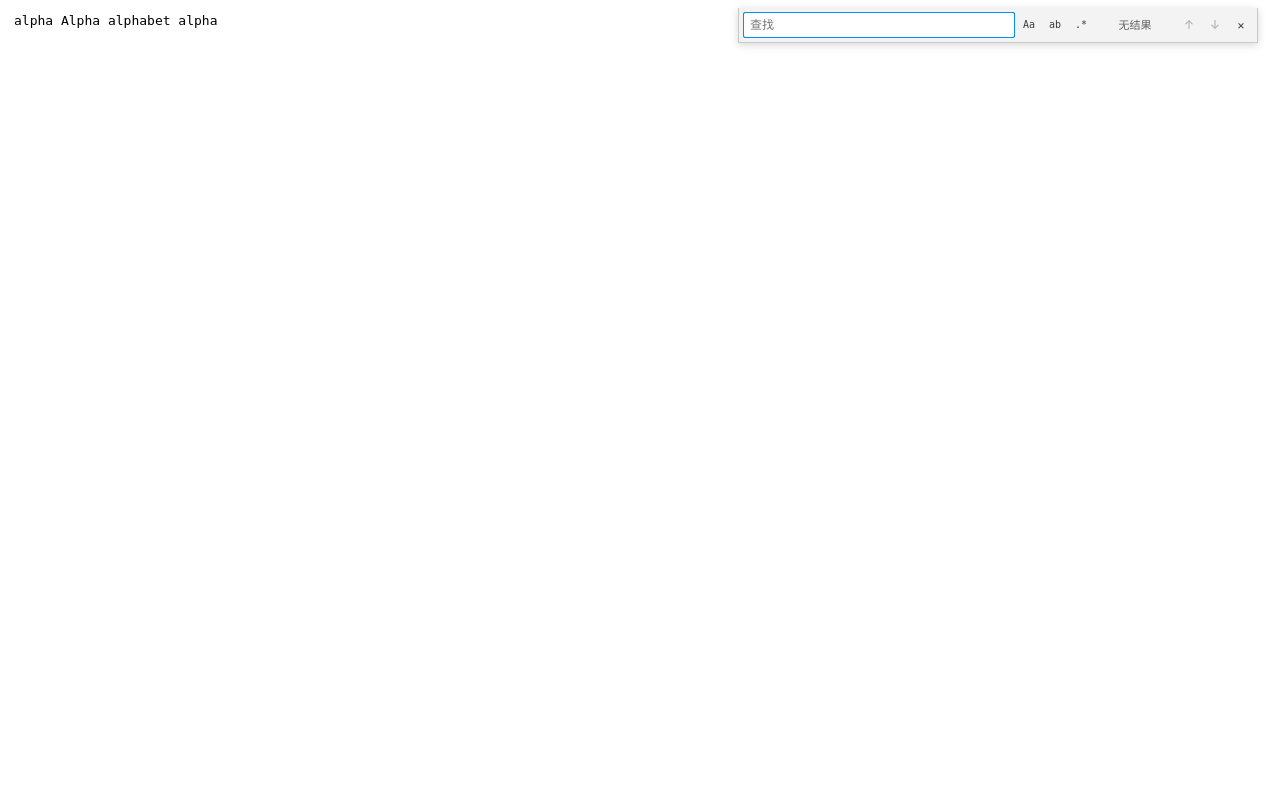
chapter search panel › 即时查找并支持大小写、全词和正则选项
Type "alpha" into the field named "查找" at (879, 25), box top-left (743, 12), bottom-right (1015, 38)
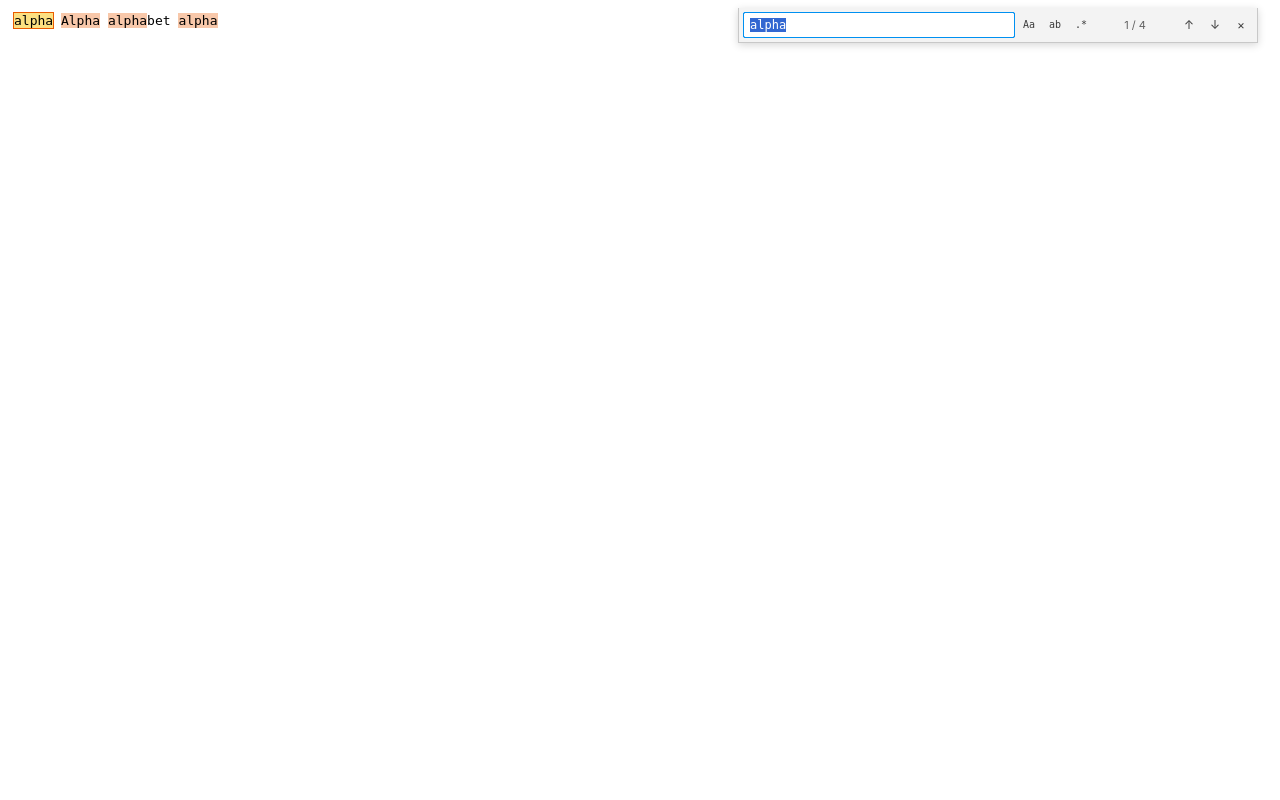
Expected: the text "1 / 4" is shown, top-left (1124, 18), bottom-right (1146, 32)
Expected: the text box labelled "alpha" is shown, top-left (14, 13), bottom-right (53, 28)
Click the button "Aa" at (1029, 25), box top-left (1017, 13), bottom-right (1041, 37)
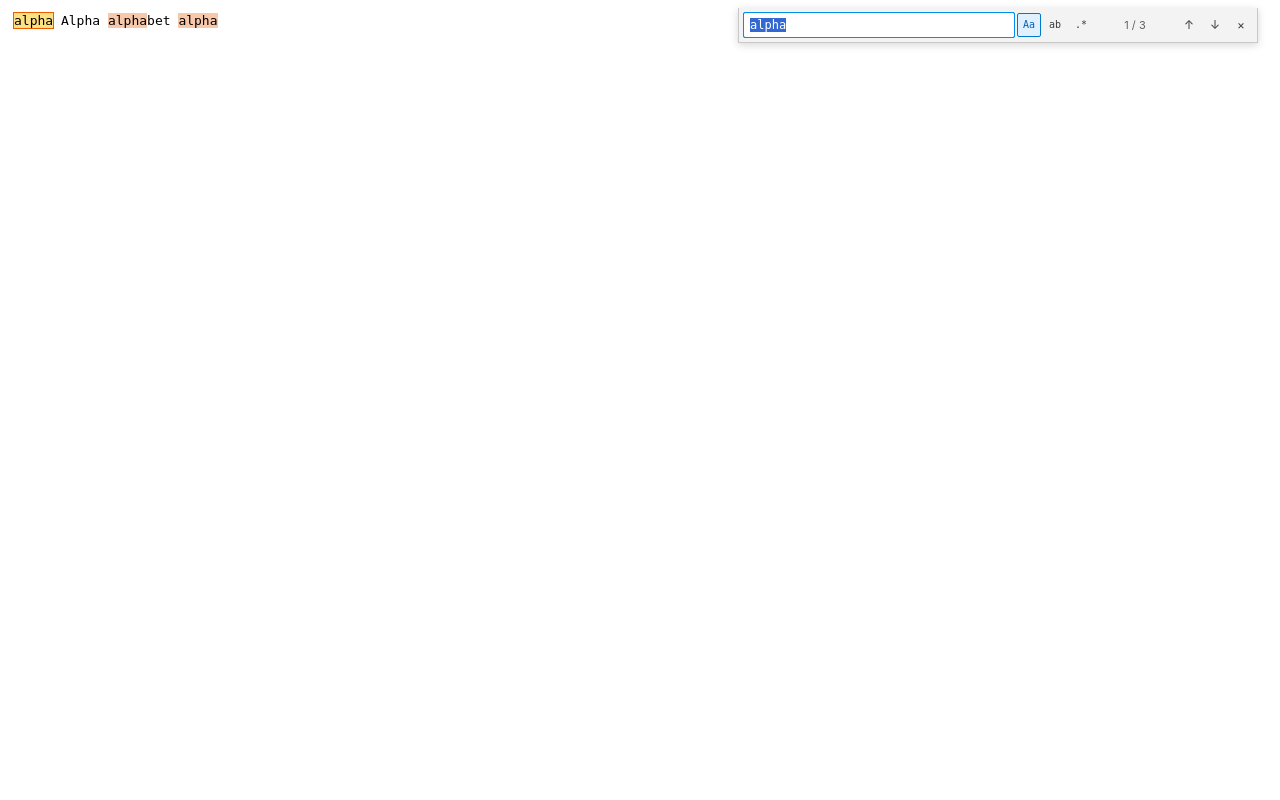
Expected: the text "1 / 3" is shown, top-left (1124, 18), bottom-right (1146, 32)
Click the button "ab" at (1055, 25), box top-left (1043, 13), bottom-right (1067, 37)
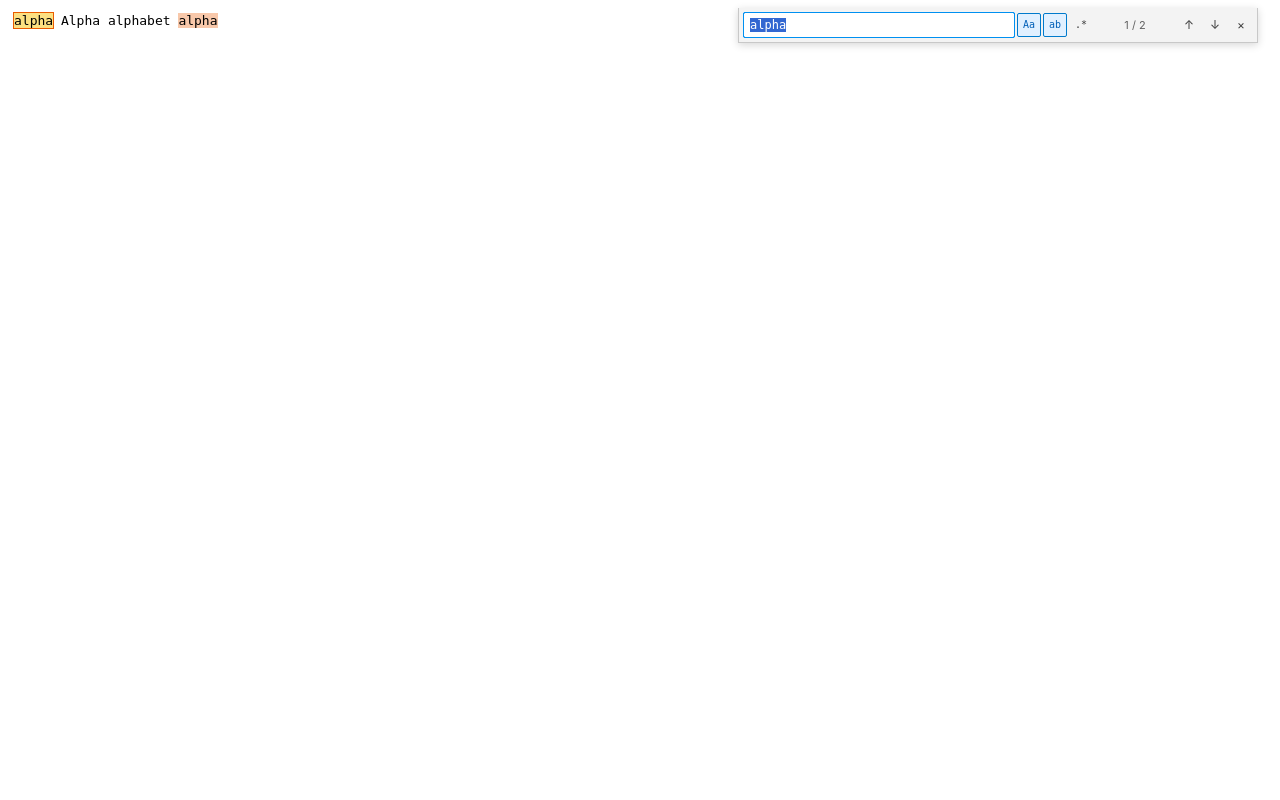
Expected: the text "1 / 2" is shown, top-left (1124, 18), bottom-right (1146, 32)
Click the button ".*" at (1081, 25), box top-left (1069, 13), bottom-right (1093, 37)
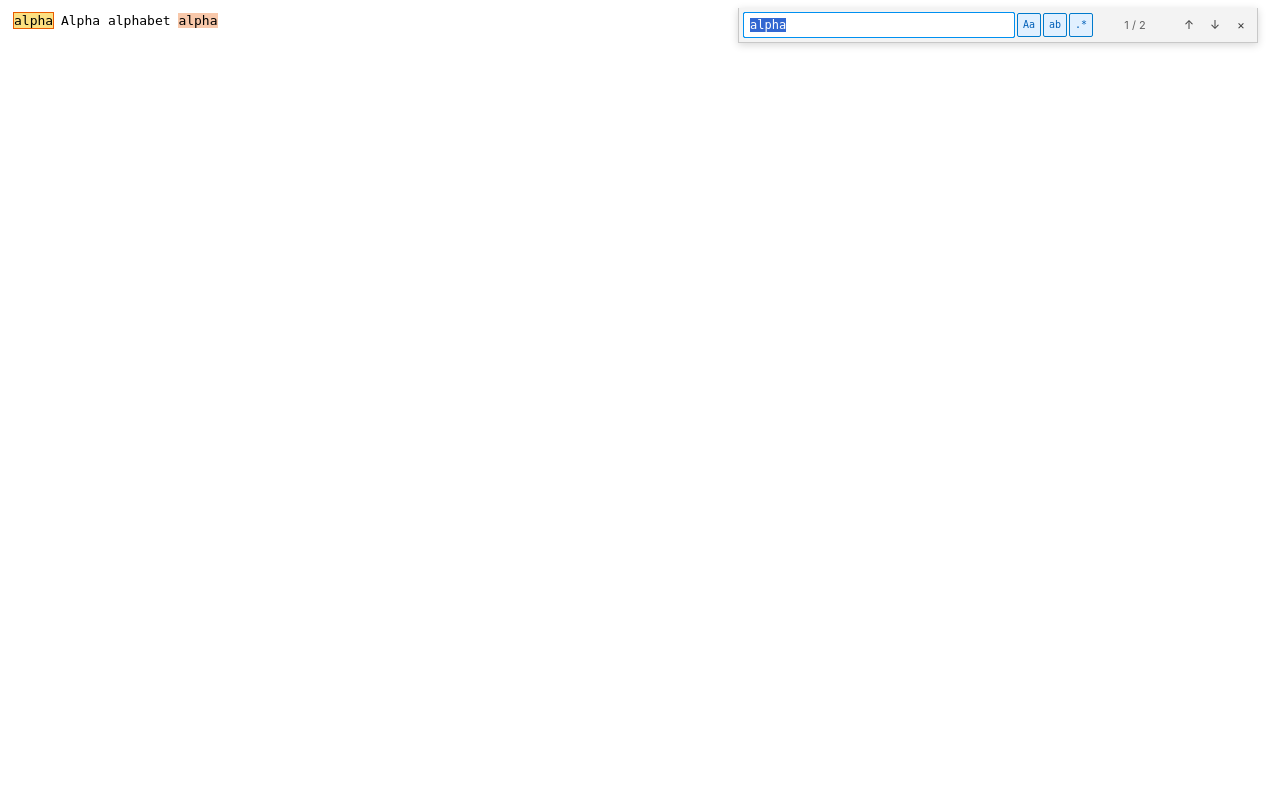
Replace the text in the field named "查找" with "A[a-z]+" at (879, 25), box top-left (743, 12), bottom-right (1015, 38)
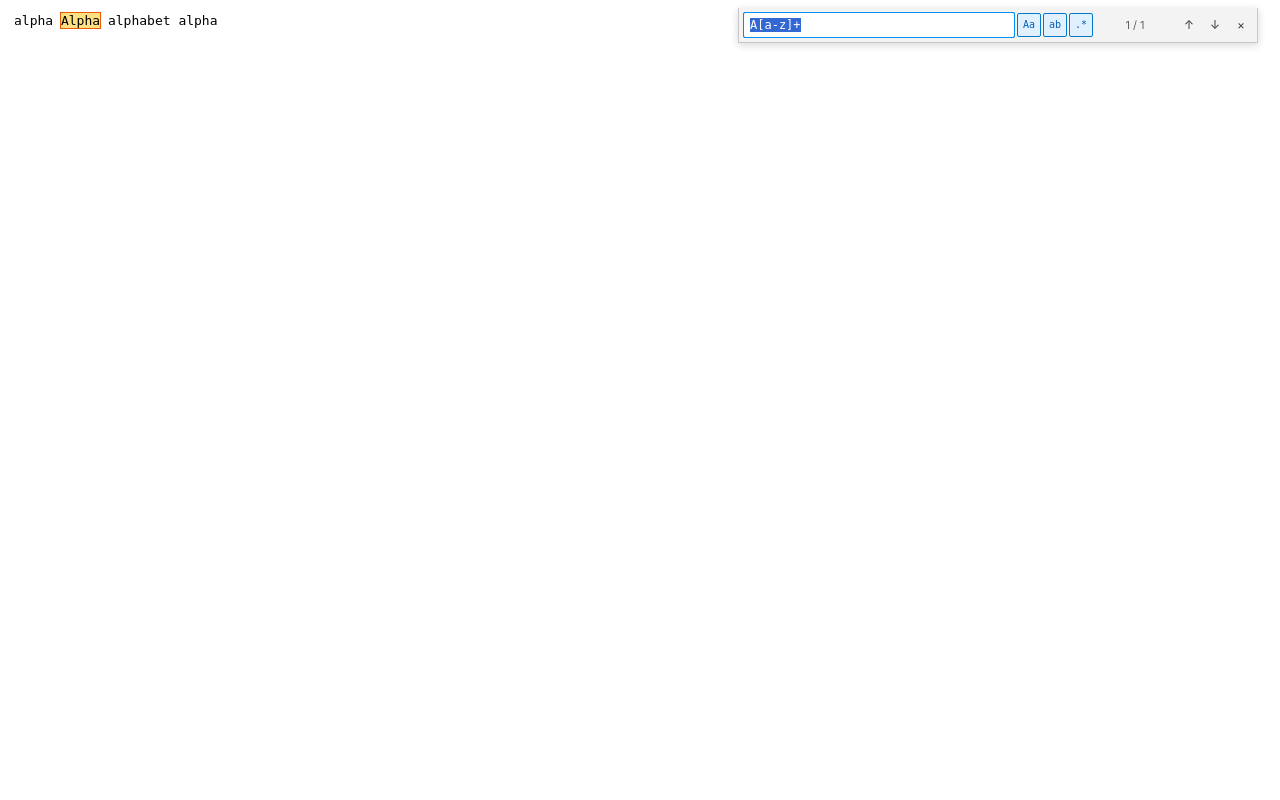
Expected: the text box labelled "Alpha" is shown, top-left (61, 13), bottom-right (100, 28)
Expected: the text "1 / 1" is shown, top-left (1125, 18), bottom-right (1144, 32)
